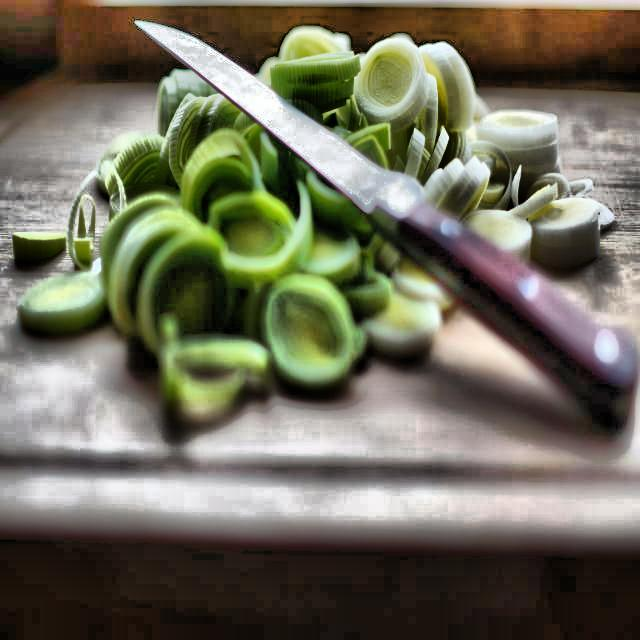knife: (127, 9, 640, 421)
